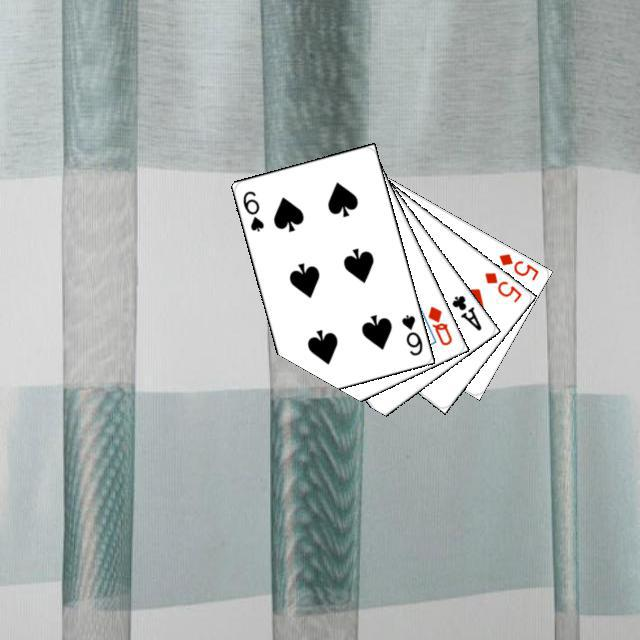5d: (480, 267, 523, 304), (494, 248, 540, 282)
6s: (396, 310, 424, 357), (238, 186, 266, 233)
Ac: (447, 290, 483, 333)
Qd: (423, 301, 454, 347)
